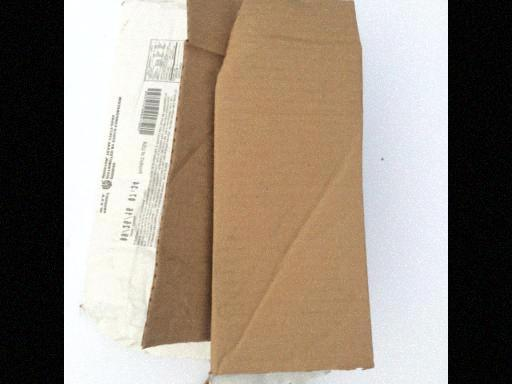cardboard: (83, 4, 368, 384)
